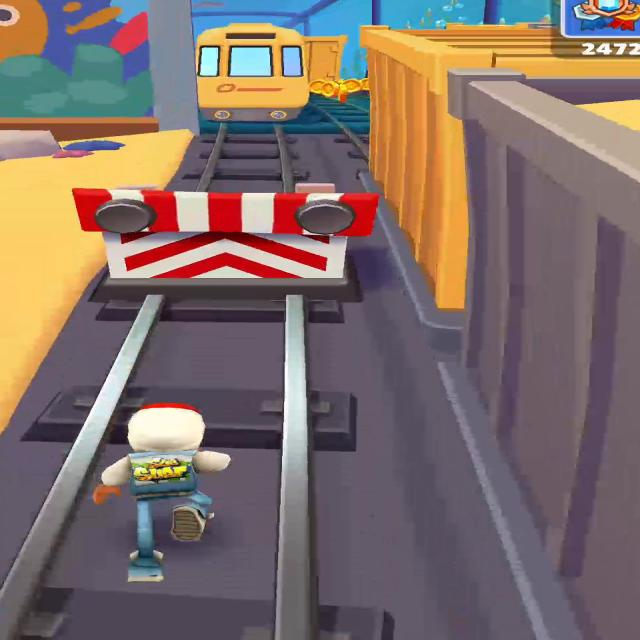roll blocker: (64, 188, 379, 301)
train: (361, 25, 639, 640), (196, 24, 311, 123), (305, 35, 347, 80)
